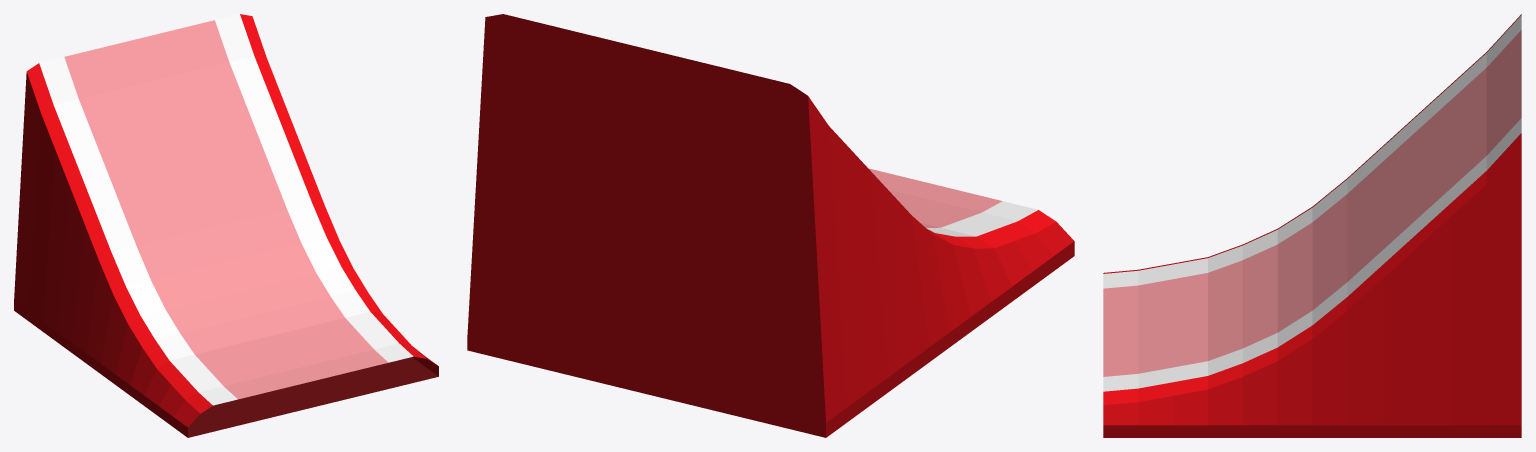
The model's file is ramp2.fbx.
3 renders of one model, left to right at view 1: azimuth 30°, elevation 25°; view 2: azimuth 150°, elevation 25°; view 3: azimuth 270°, elevation 25°, orthographic. The views are drawn at different scales.
Parts seen in each view (by area): view 1: RampSmall; view 2: RampSmall; view 3: RampSmall.
Part boxes in pixels (left/top/right/bottom): RampSmall: left=14, top=14, right=438, bottom=437; RampSmall: left=467, top=14, right=1074, bottom=437; RampSmall: left=1103, top=14, right=1521, bottom=437.
Bounding box in the file's own units: 10 × 9.2 × 12.
